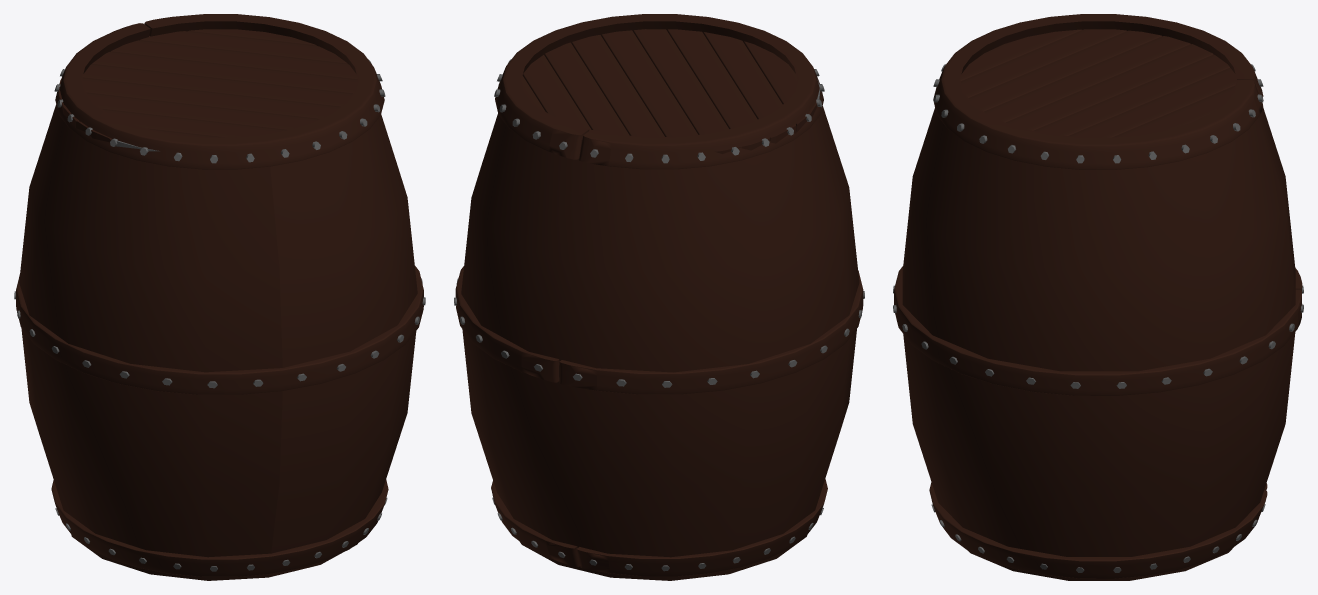
File: Barrel.FBX
3 views of the same model, side by side, from view 1: azimuth 30°, elevation 25°; view 2: azimuth 150°, elevation 25°; view 3: azimuth 270°, elevation 25° (orthographic).
Visible parts, largest first — view 1: Barrel; view 2: Barrel; view 3: Barrel.
Part boxes in pixels (left/top/right/bottom): Barrel: left=14, top=14, right=425, bottom=580; Barrel: left=454, top=14, right=864, bottom=580; Barrel: left=893, top=14, right=1303, bottom=580.
Bounding box in the file's own units: 153 × 180 × 153.
